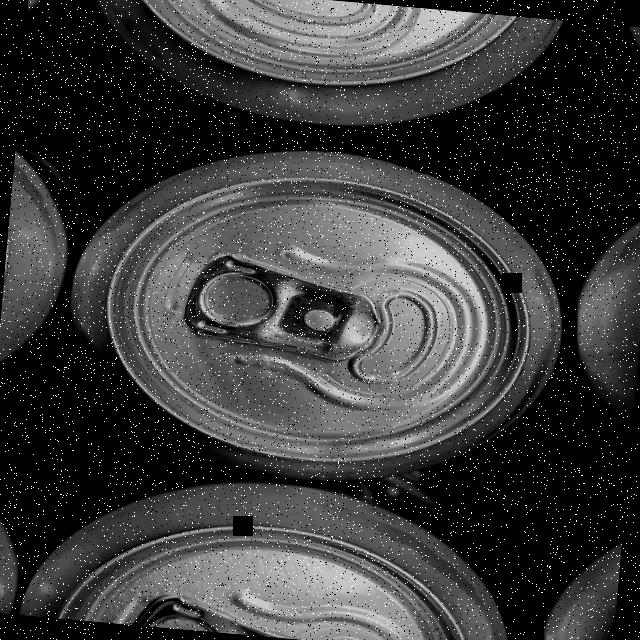can: (50, 127, 579, 504), (16, 459, 527, 640), (61, 0, 591, 170)
